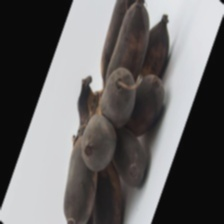banana: (23, 6, 184, 181)
